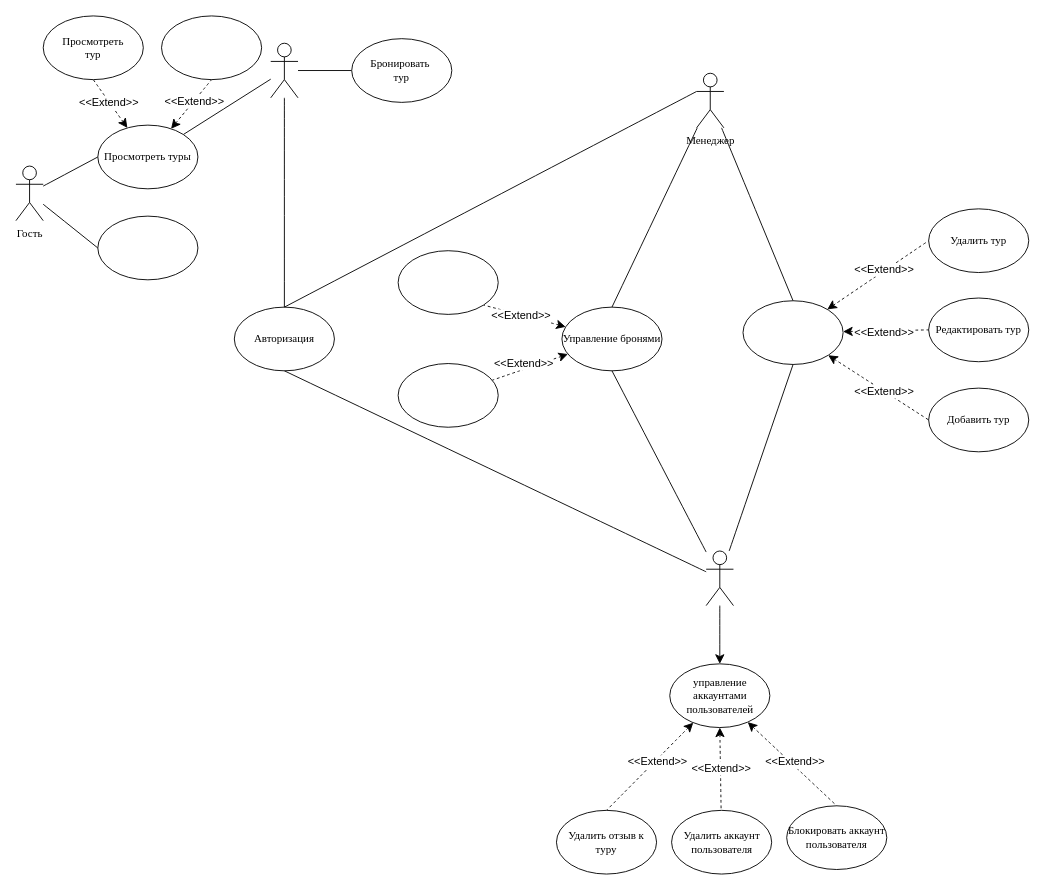
This 1045x890 diagram has some shape labels left out. Each missing label, with the box of its shape:
Администратор: (705, 550, 733, 606)
Отменить бронь тура пользователя: (397, 250, 498, 314)
Пользователь: (270, 42, 298, 98)
Принять заявку на тур: (397, 363, 498, 427)
Регистрация: (97, 215, 198, 280)
Управление турами: (742, 300, 843, 364)
Фильтровать туры: (161, 15, 262, 80)
